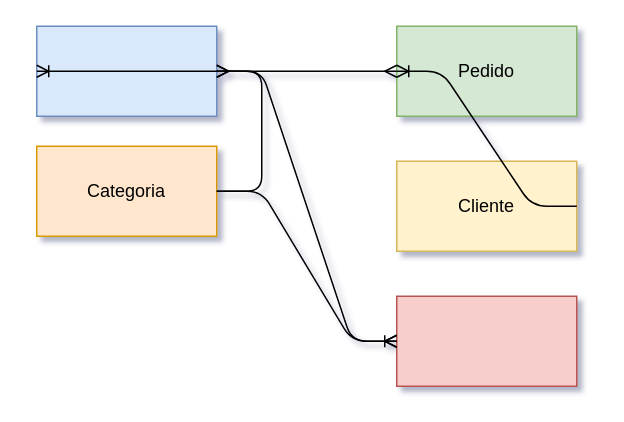
Image size: 624x422. Some labels were removed from this diagram. Each missing label, with the centre of its shape:
"Produto" goes at (126,70).
"SubCategoria" goes at (486,340).
